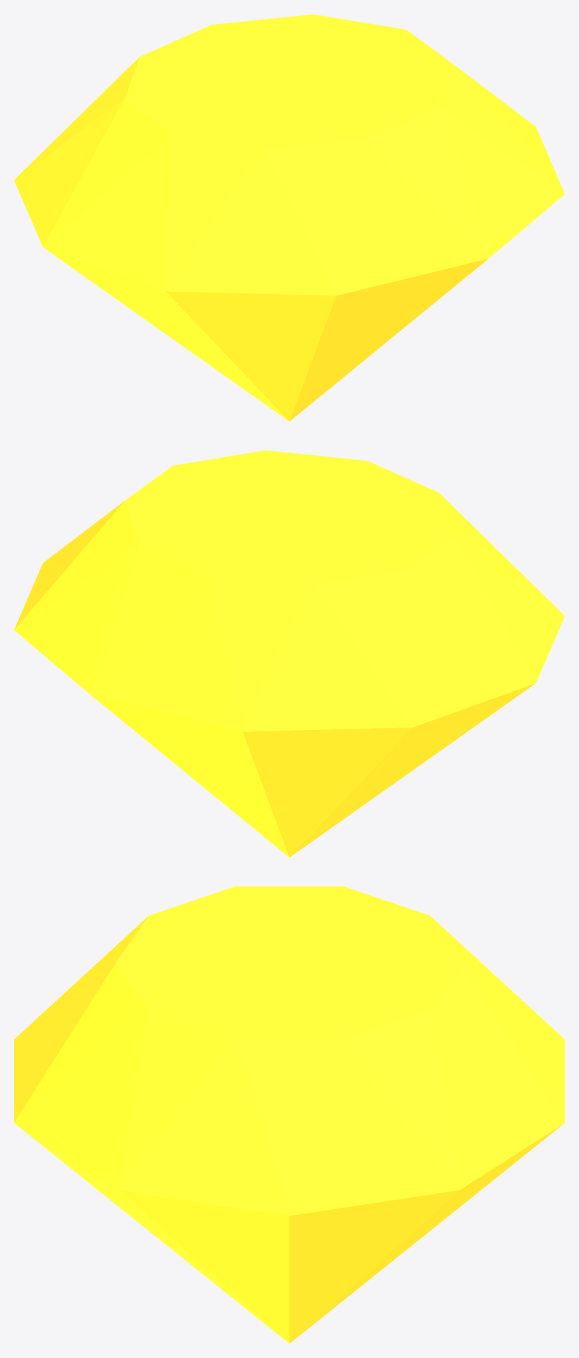
Rendered from gem_topaz_flawless.glb.
3 views of the same model, one above another, from view 1: azimuth 30°, elevation 25°; view 2: azimuth 150°, elevation 25°; view 3: azimuth 270°, elevation 25° (orthographic). The views are drawn at different scales.
Parts seen in each view (by area): view 1: gem_topaz_4; view 2: gem_topaz_4; view 3: gem_topaz_4.
Part boxes in pixels (x1=…): gem_topaz_4: x1=14, y1=14, x2=564, y2=421; gem_topaz_4: x1=14, y1=450, x2=564, y2=857; gem_topaz_4: x1=14, y1=886, x2=564, y2=1343.
Bounding box in the file's own units: 0.11 × 0.0725 × 0.0951.
